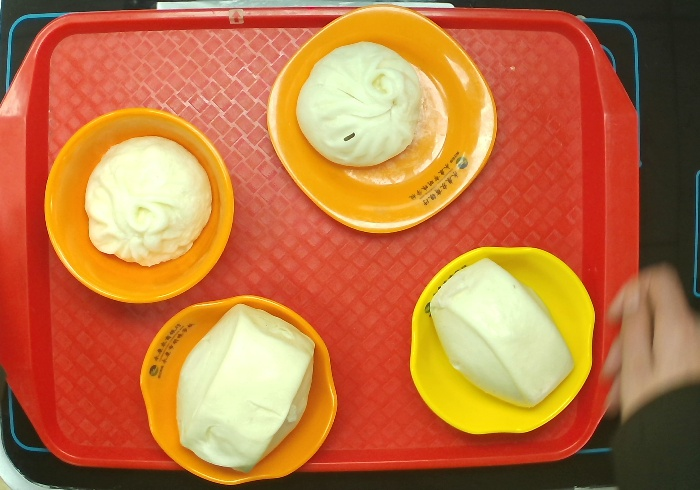YKMZ-Ju_Se_Fang_Die: (266, 6, 497, 235)
